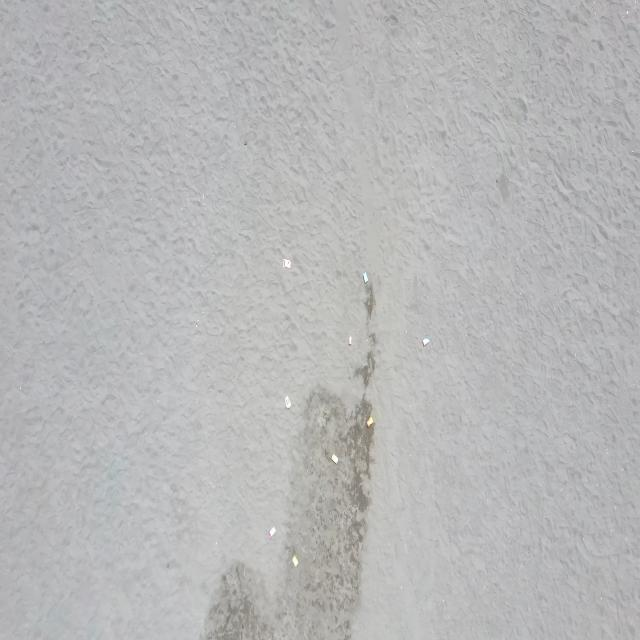Garbage: (281, 258, 291, 267), (292, 554, 298, 566), (423, 336, 430, 346), (268, 527, 275, 536), (331, 453, 337, 463), (368, 415, 373, 427), (362, 271, 367, 283), (284, 395, 289, 407), (347, 335, 351, 344)
